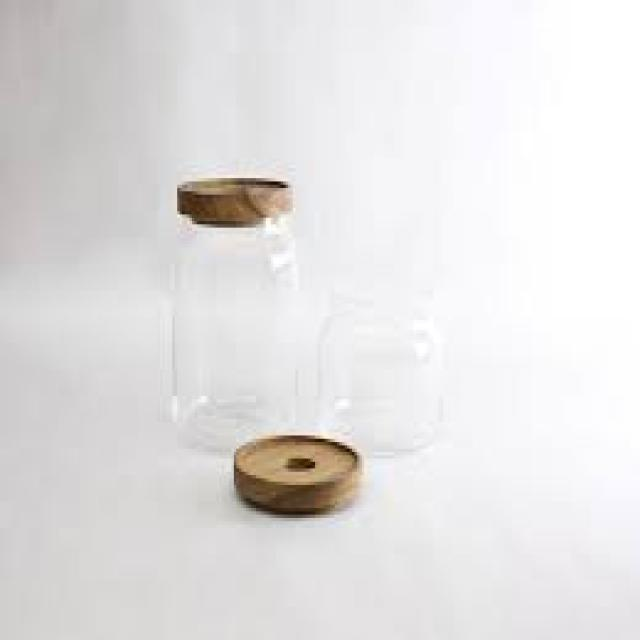glass: (168, 221, 301, 445), (318, 277, 438, 449)
